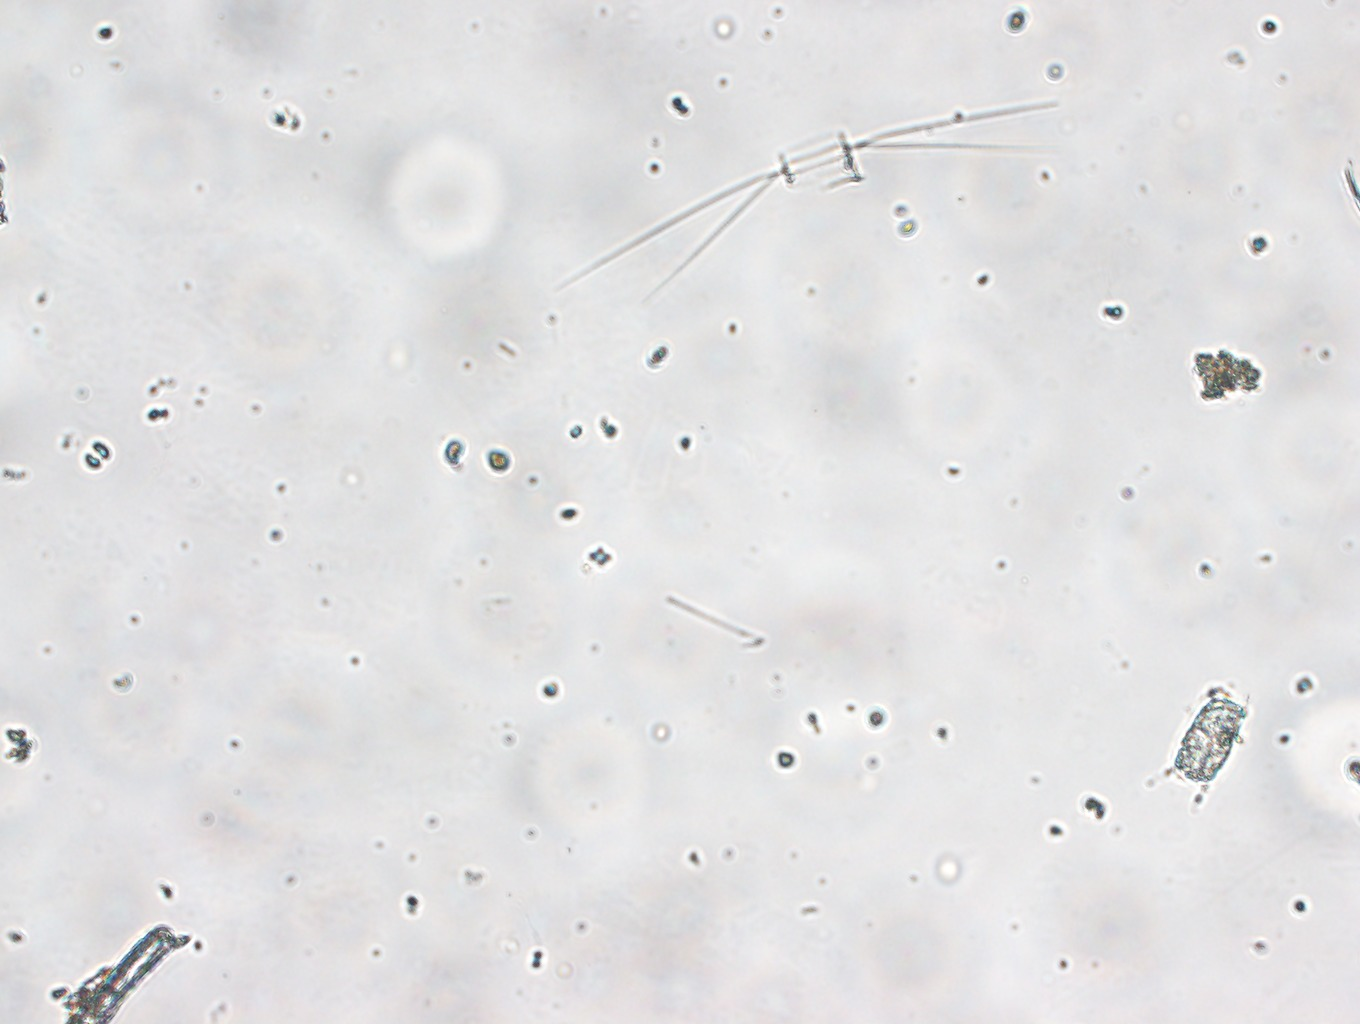chaetoceros: (553, 97, 1091, 299)
